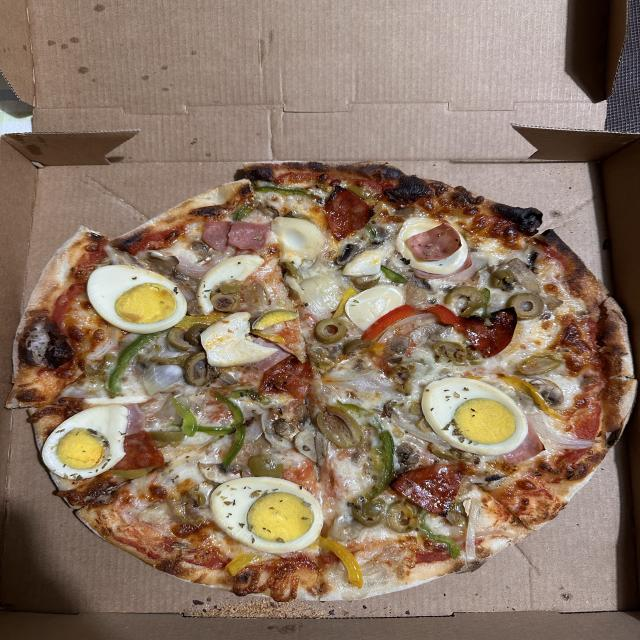green_olives: (314, 406, 364, 450), (442, 286, 486, 316), (182, 350, 212, 386), (506, 293, 544, 320), (352, 498, 385, 528), (386, 502, 417, 533), (516, 355, 564, 375), (314, 317, 348, 344), (387, 362, 415, 394), (248, 454, 285, 477), (432, 342, 467, 363), (209, 291, 239, 314), (93, 354, 115, 377), (344, 339, 375, 355), (489, 270, 515, 288), (429, 445, 460, 460), (168, 328, 190, 349), (187, 324, 207, 345), (351, 277, 382, 289), (285, 261, 301, 278)
mushrooms: (501, 257, 562, 309), (293, 428, 327, 466), (406, 275, 439, 307), (197, 461, 242, 484), (530, 379, 564, 407), (146, 251, 180, 276), (266, 418, 299, 442), (394, 441, 420, 471), (189, 242, 214, 267), (334, 242, 360, 266), (386, 206, 415, 218), (364, 239, 385, 250), (384, 401, 394, 418)
pepperoni: (387, 464, 468, 517), (458, 306, 518, 360), (323, 186, 375, 243), (260, 356, 315, 405), (110, 430, 167, 470)
pizza: (0, 158, 640, 605)
